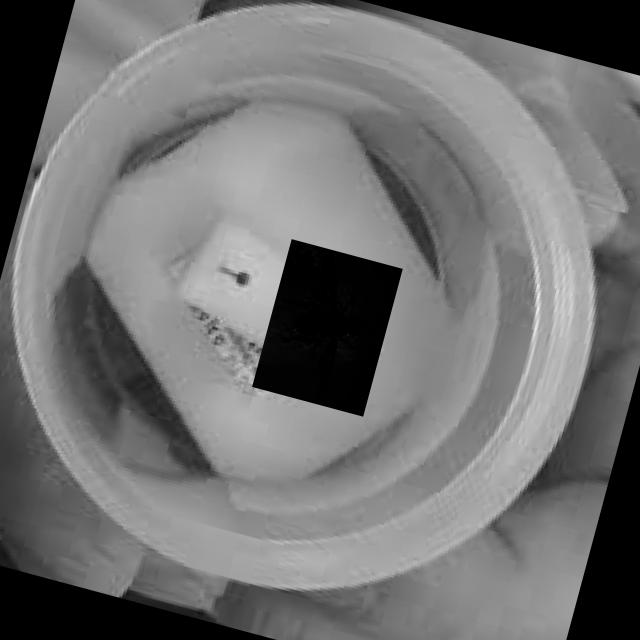fruit fly: (252, 238, 402, 416)
